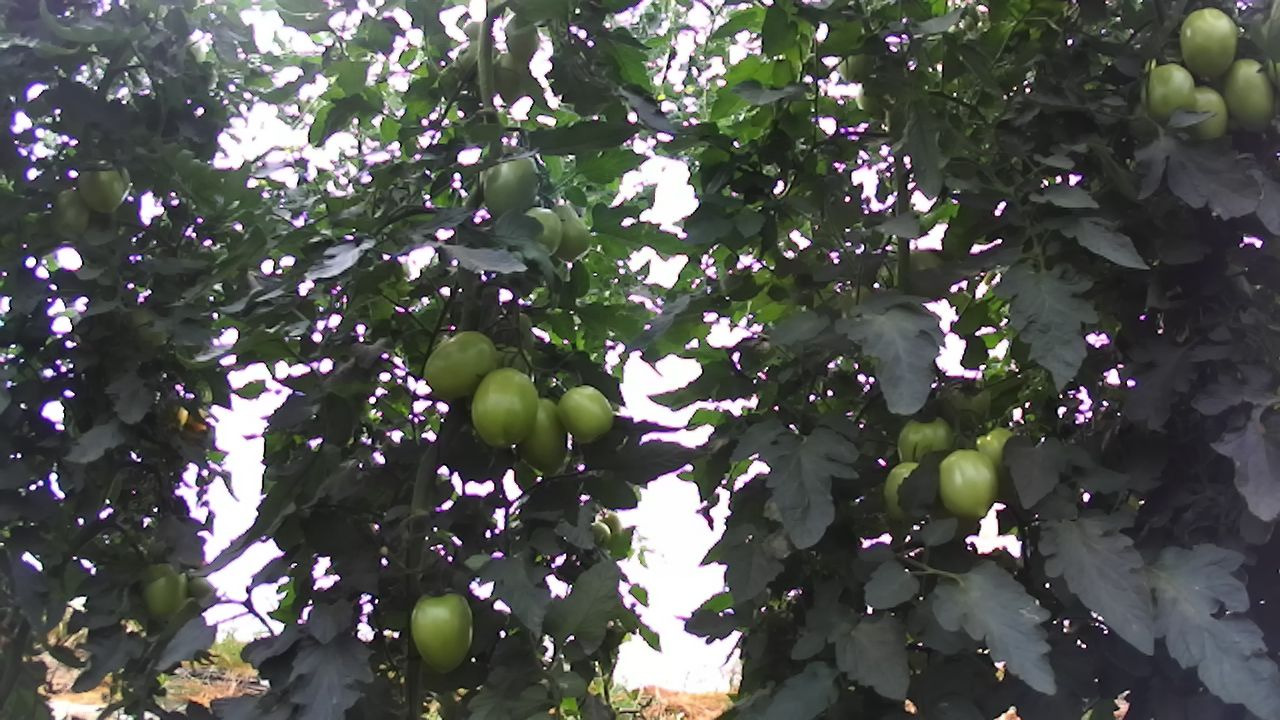tomato: (463, 363, 539, 458), (406, 581, 475, 677), (418, 329, 504, 405), (476, 142, 542, 227), (1218, 53, 1280, 138), (508, 395, 571, 478), (935, 447, 1004, 522), (1176, 4, 1240, 82), (553, 380, 620, 447), (890, 410, 957, 471), (135, 560, 196, 623), (1141, 62, 1198, 127), (75, 153, 129, 215), (551, 197, 596, 268), (46, 182, 96, 244), (1185, 80, 1232, 145)
